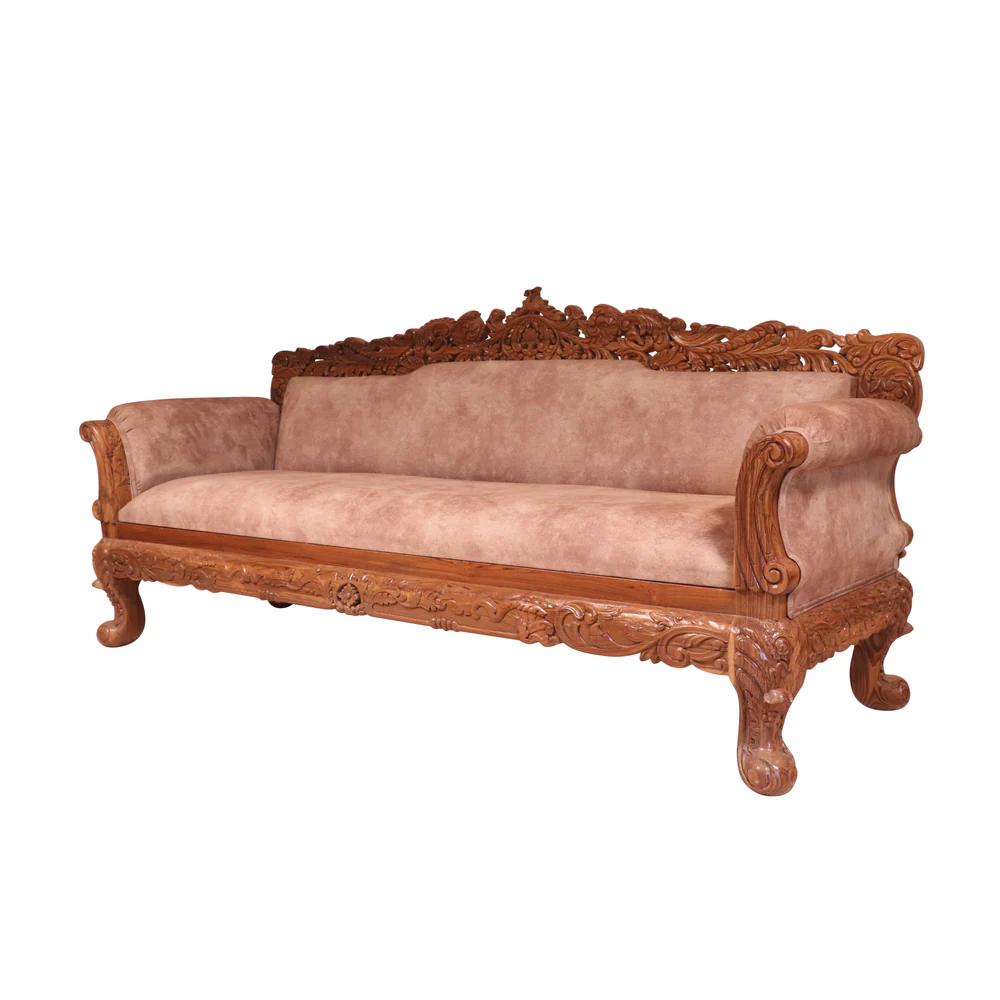3seatersofa: (81, 288, 923, 795)
backrest: (273, 288, 922, 494)
base: (95, 523, 741, 672), (800, 573, 911, 650)
leftarmrest: (734, 398, 920, 617)
leg: (729, 617, 815, 793), (851, 574, 911, 710), (95, 539, 144, 645)
rightarmrest: (80, 398, 279, 534)
seat: (123, 471, 734, 587)
